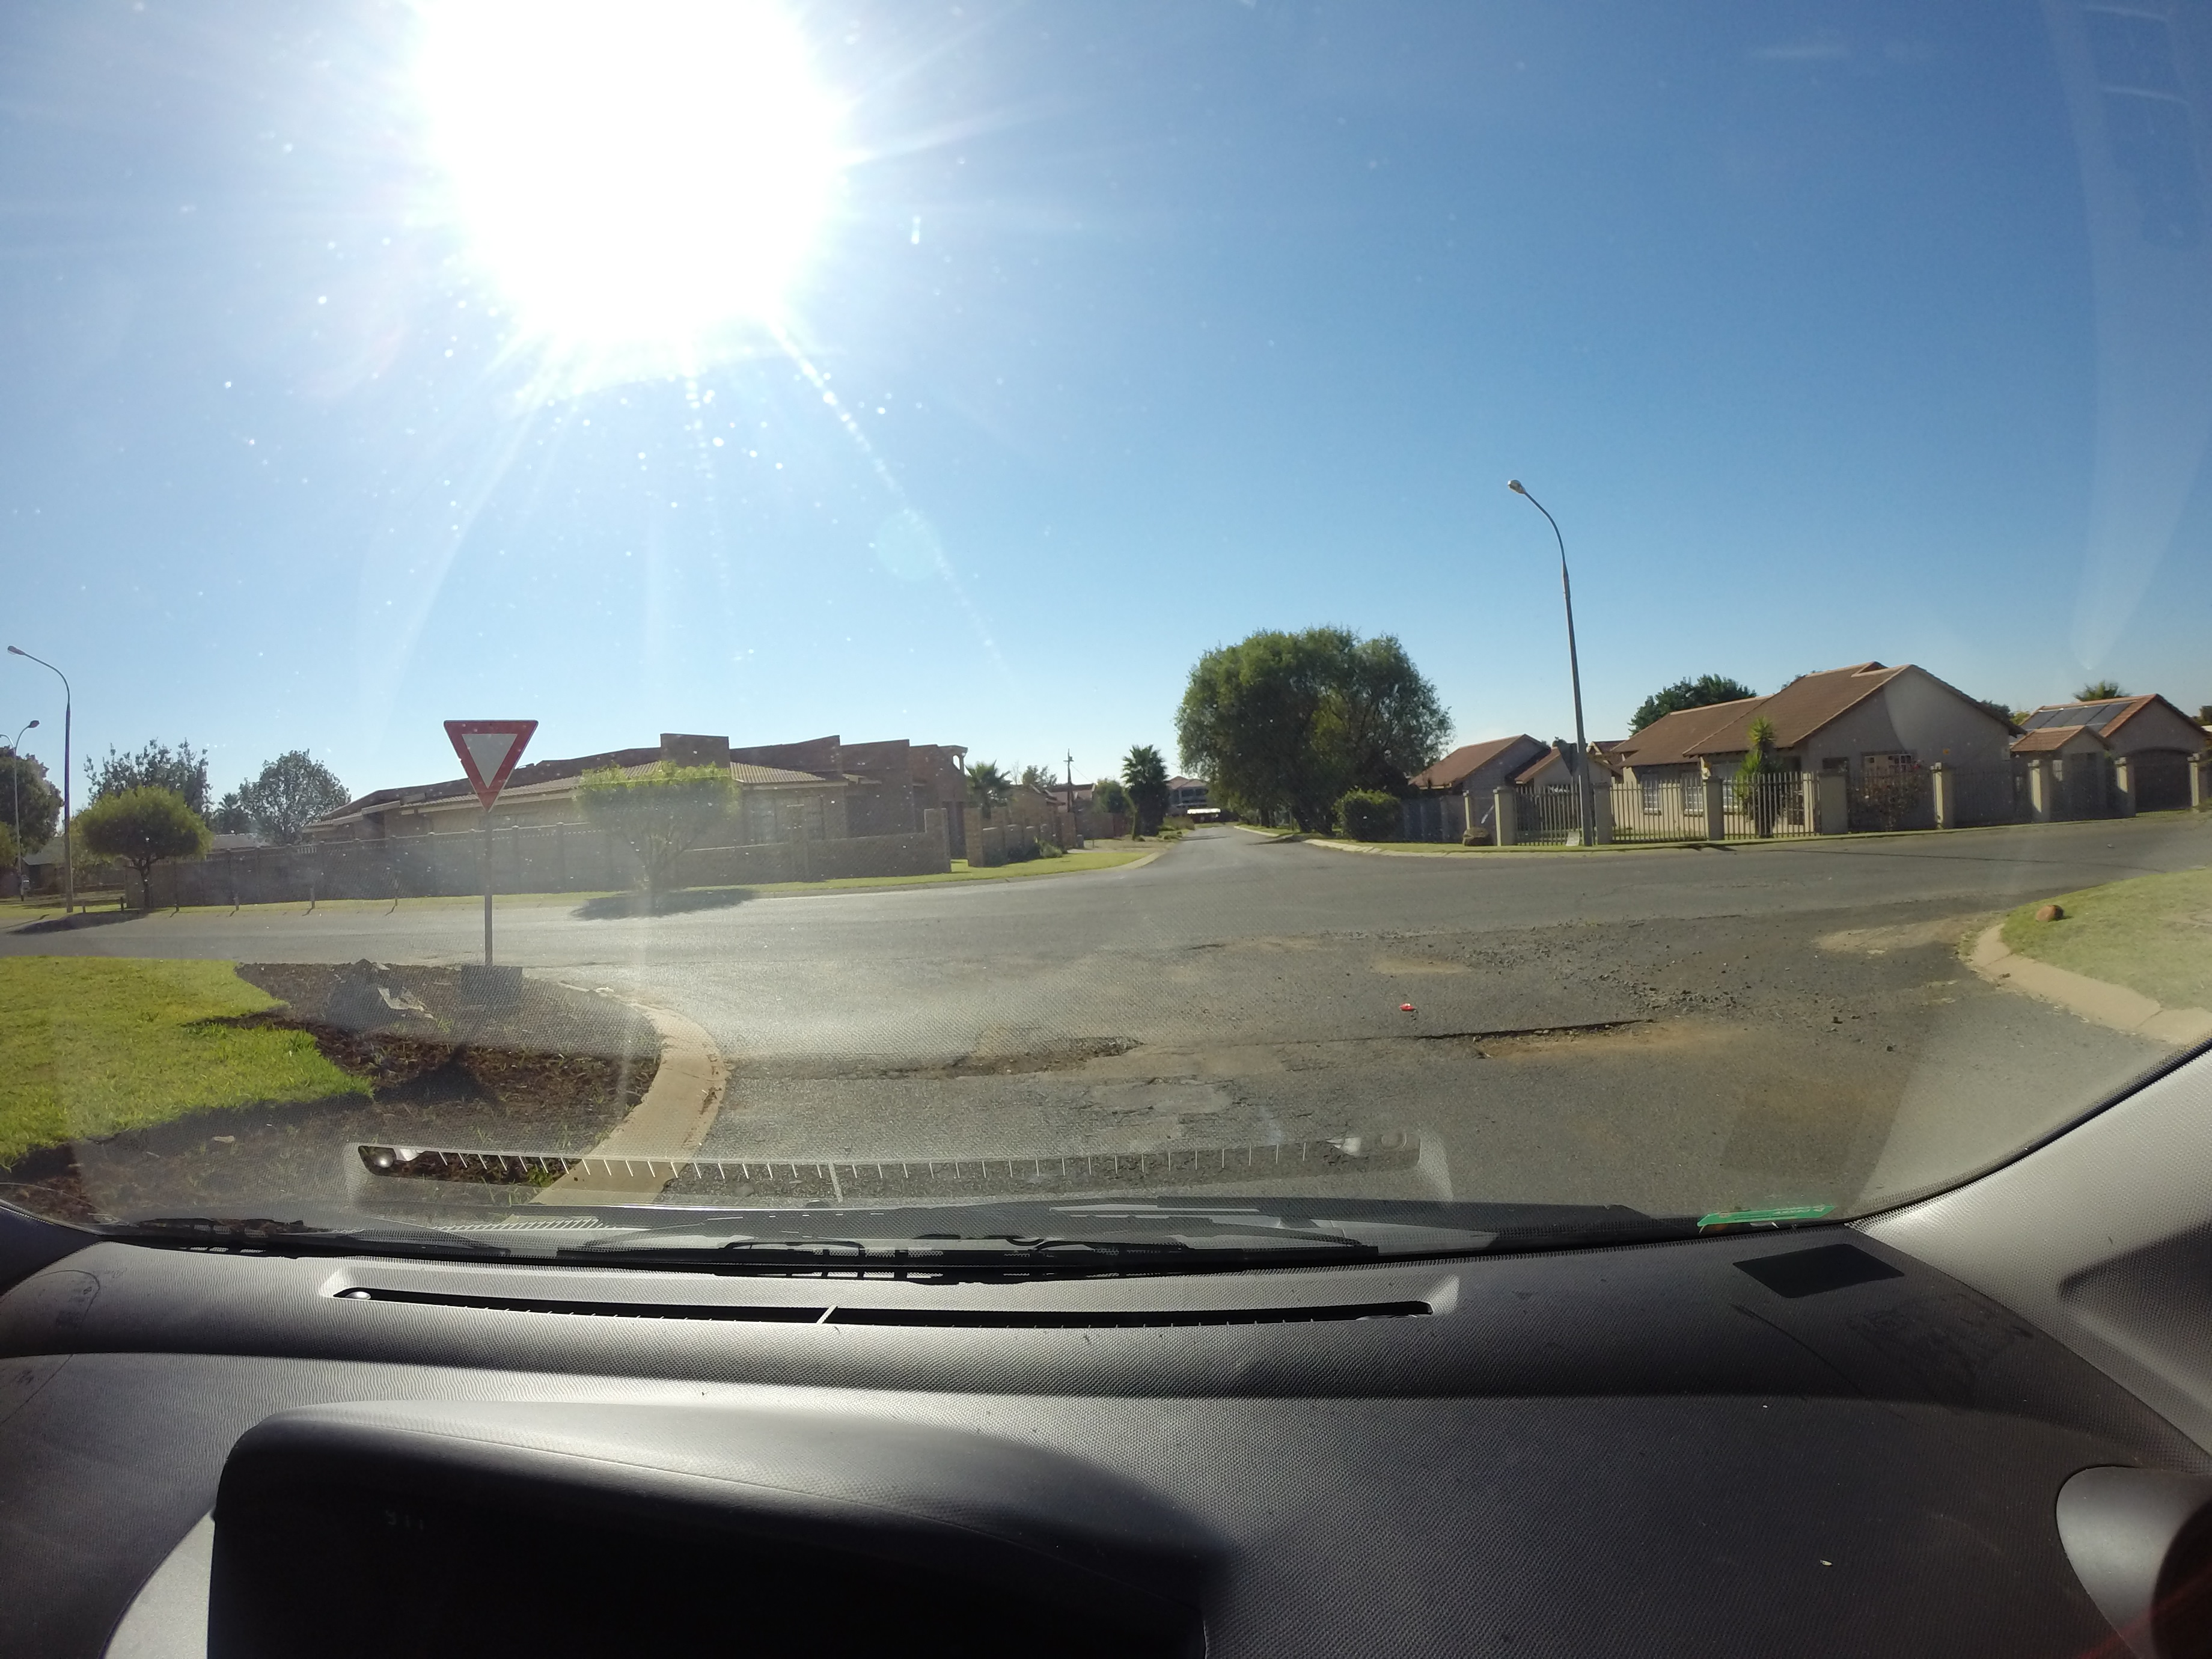pothole: (1432, 1014, 1743, 1061)
